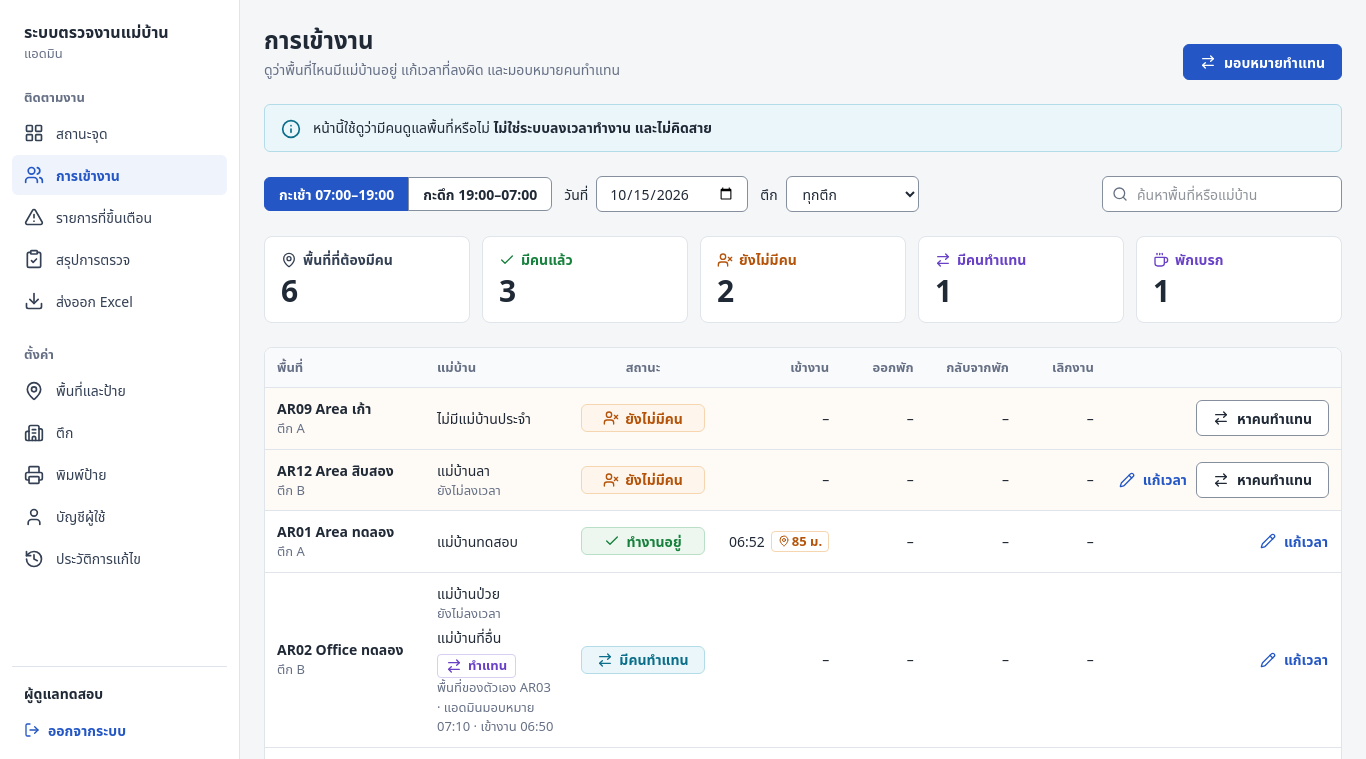
Test case: attendance corrections (D2, facility-0051) › the saved notice floats over the page and ✕ closes it at once
Click the button with aria-label "แก้เวลา แม่บ้านลา" at [1153, 480], box x1=1118 y1=462 x2=1188 y2=498
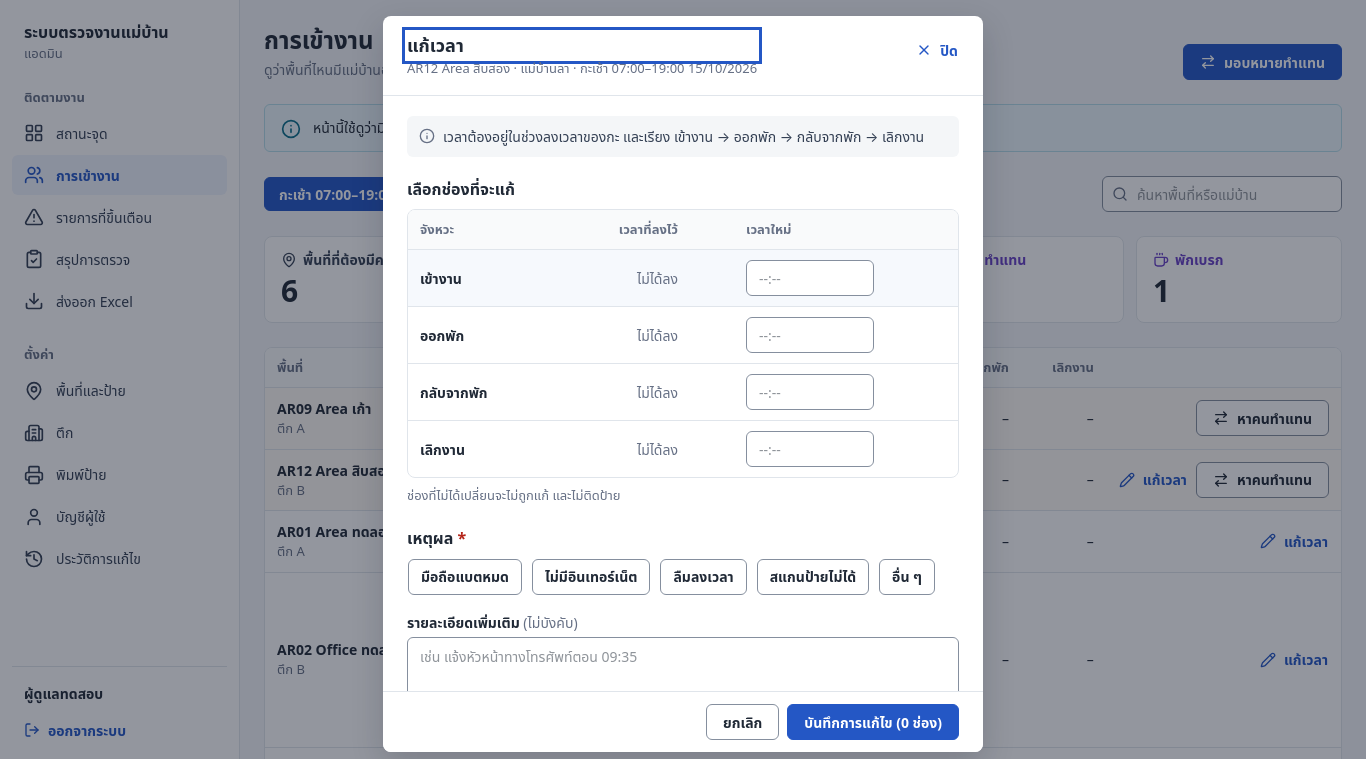
Type "07:05" into the field named "เวลาใหม่ เข้างาน" at [810, 278], box x1=746 y1=260 x2=874 y2=296
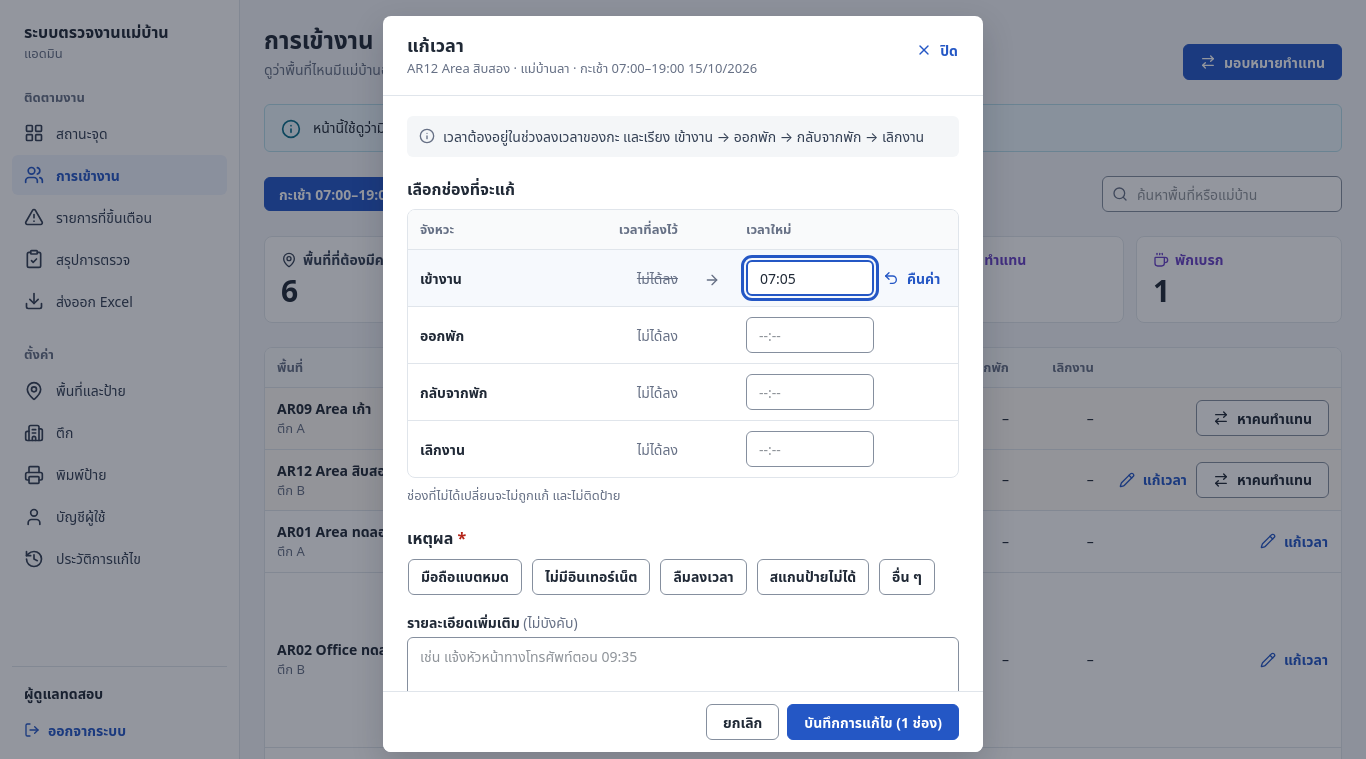
Click the radio button labelled "มือถือแบตหมด" at [465, 576], box x1=408 y1=558 x2=522 y2=594
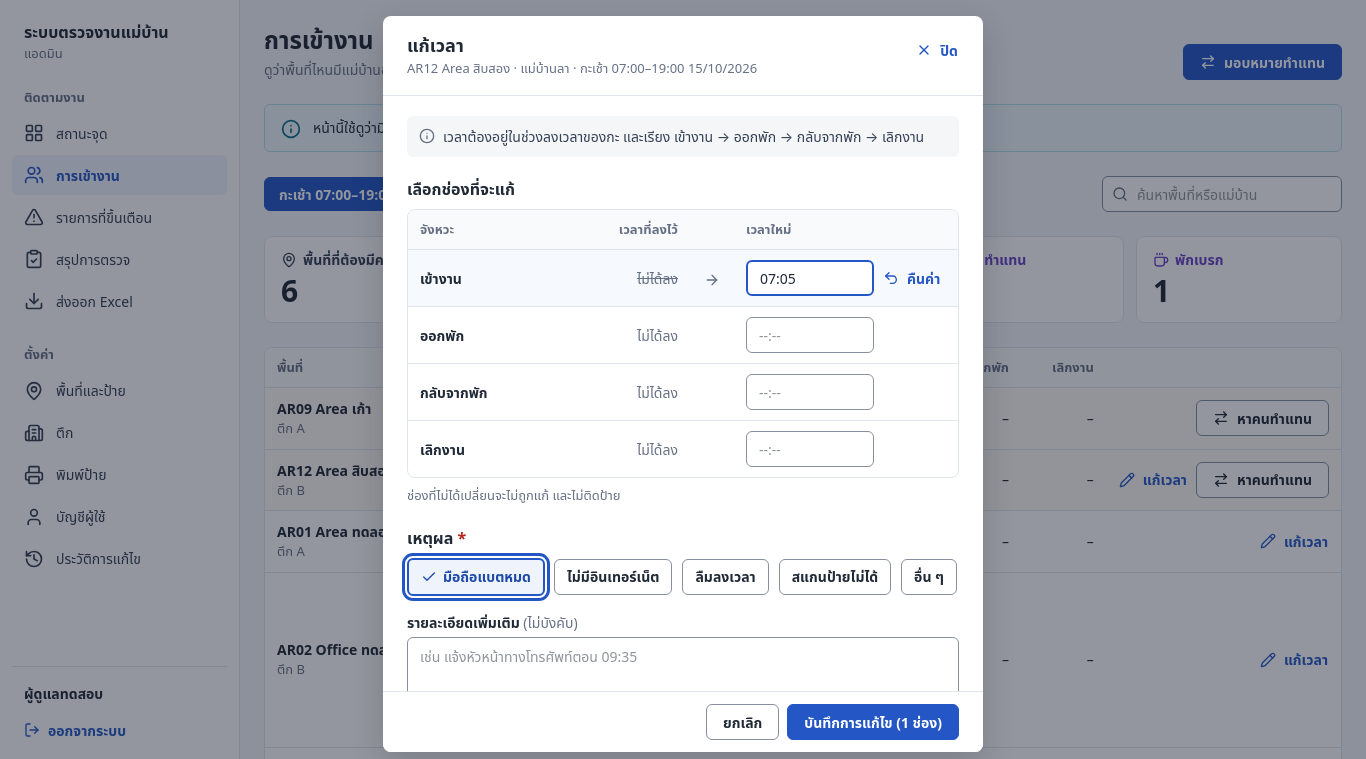
Click the button "บันทึกการแก้ไข (1 ช่อง)" at [873, 722], box x1=787 y1=704 x2=959 y2=740
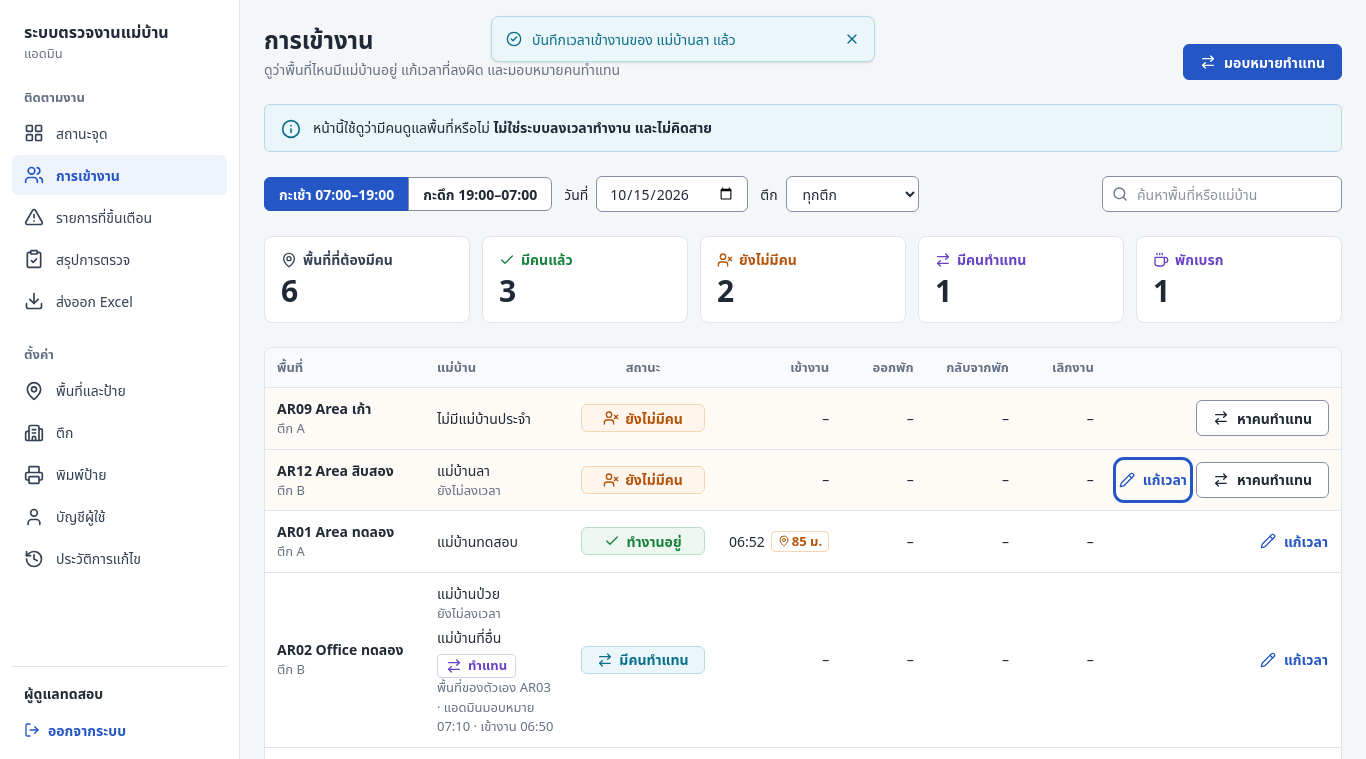
Click the button named "ปิดข้อความ" at [852, 39], box x1=834 y1=21 x2=870 y2=57
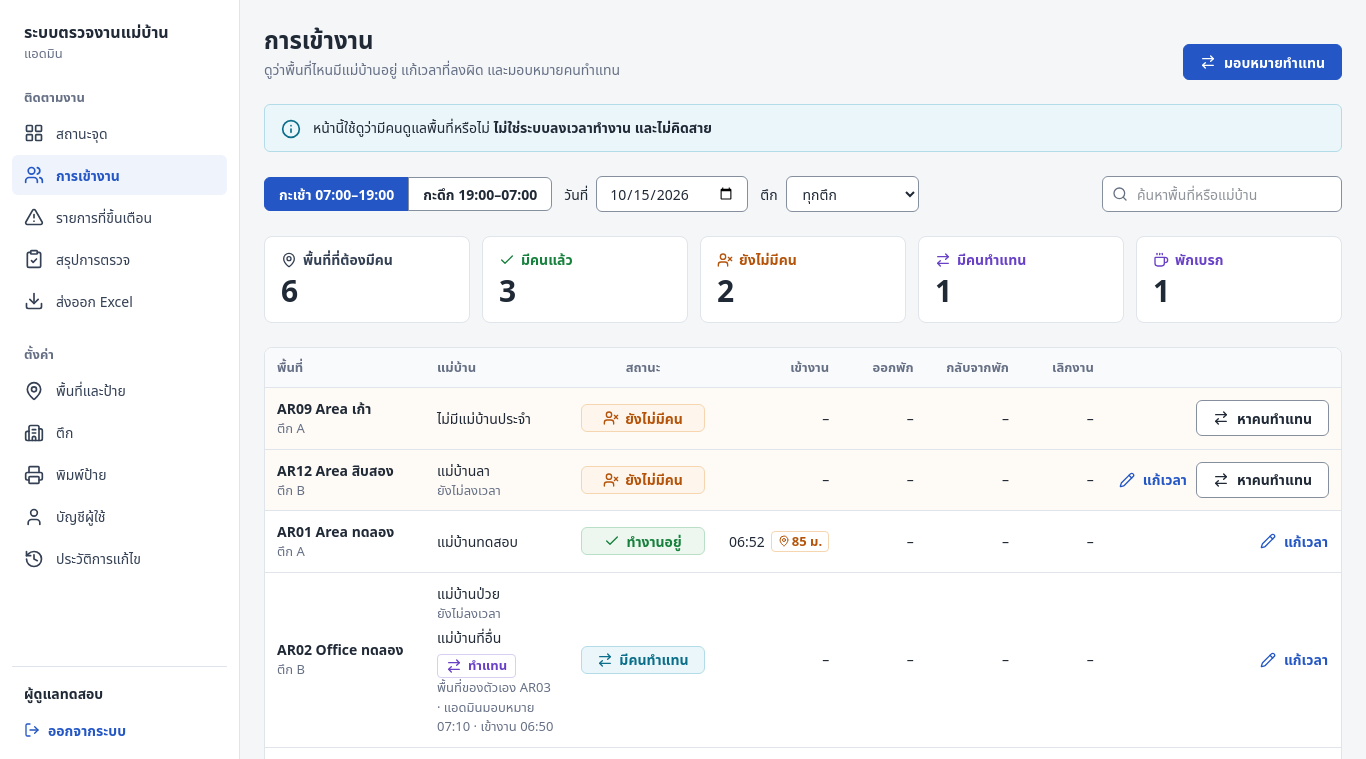
Expected: the text "บันทึกเวลาเข้างานของ แม่บ้านลา แล้ว" is gone
